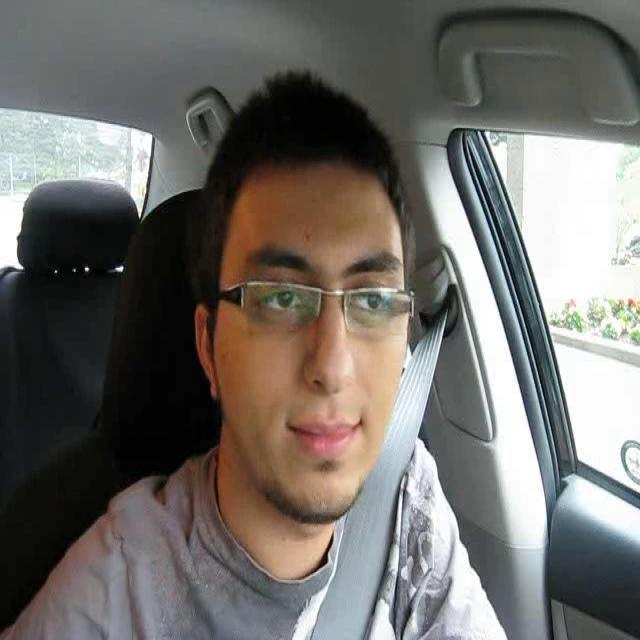close: (278, 409, 369, 463)
